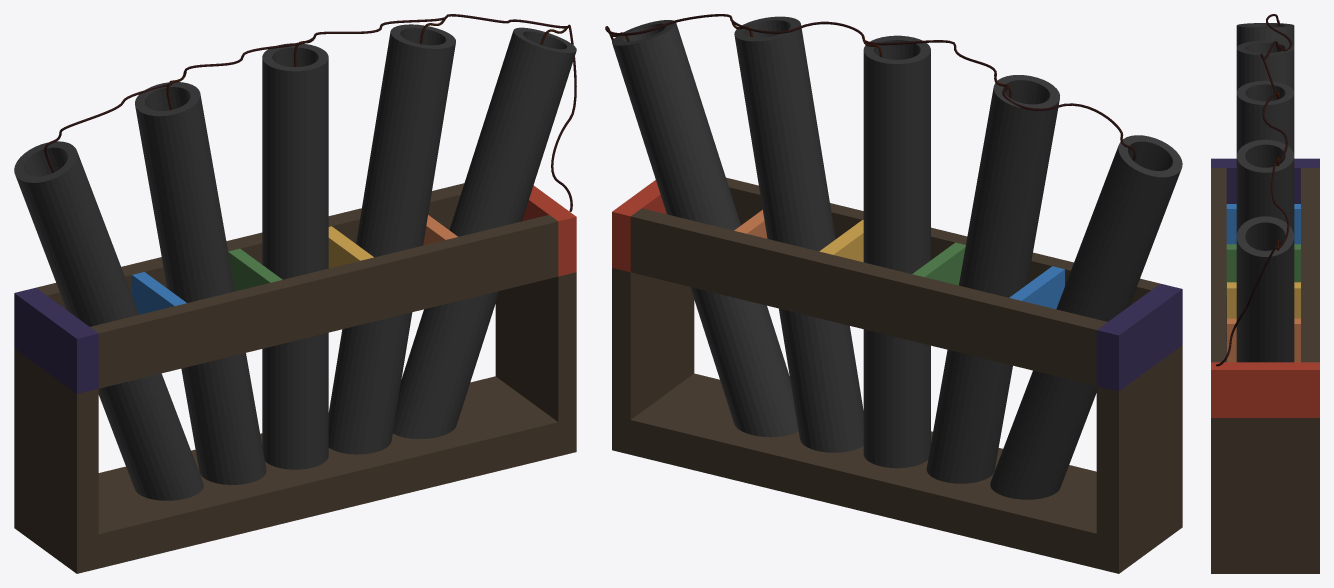
File: RNB_5RACK.fbx
3 renders of one model, left to right at view 1: azimuth 30°, elevation 25°; view 2: azimuth 150°, elevation 25°; view 3: azimuth 270°, elevation 25°, orthographic. The views are drawn at different scales.
Visible parts, largest first — view 1: Cube, Cylinder.001, Cylinder, Cylinder.003, Cylinder.002, Cylinder.004, BezierCurve.004; view 2: Cube, Cylinder.001, Cylinder, Cylinder.003, Cylinder.002, Cylinder.004, BezierCurve.004; view 3: Cube, Cylinder.003, Cylinder.001, Cylinder, Cylinder.002, BezierCurve.004, Cylinder.004.
Boxes of the visible parts, left/top/right/bottom form: Cube: left=14, top=183, right=576, bottom=573; Cylinder.001: left=328, top=24, right=455, bottom=454; Cylinder: left=262, top=43, right=328, bottom=469; Cylinder.003: left=393, top=27, right=576, bottom=438; Cylinder.002: left=135, top=82, right=266, bottom=484; Cylinder.004: left=14, top=141, right=203, bottom=500; BezierCurve.004: left=44, top=14, right=576, bottom=211; Cube: left=612, top=177, right=1182, bottom=573; Cylinder.001: left=734, top=16, right=863, bottom=452; Cylinder: left=863, top=35, right=930, bottom=468; Cylinder.003: left=612, top=20, right=798, bottom=437; Cylinder.002: left=926, top=75, right=1059, bottom=483; Cylinder.004: left=990, top=135, right=1182, bottom=499; BezierCurve.004: left=605, top=14, right=1136, bottom=161; Cube: left=1211, top=158, right=1319, bottom=573; Cylinder.003: left=1236, top=216, right=1294, bottom=362; Cylinder.001: left=1236, top=139, right=1294, bottom=235; Cylinder: left=1236, top=80, right=1294, bottom=154; Cylinder.002: left=1236, top=40, right=1294, bottom=91; BezierCurve.004: left=1216, top=14, right=1291, bottom=366; Cylinder.004: left=1236, top=23, right=1294, bottom=47.
Size of the model in its own units: 291 by 225 by 56.62.
Materials: 6 (4 with a texture image).
